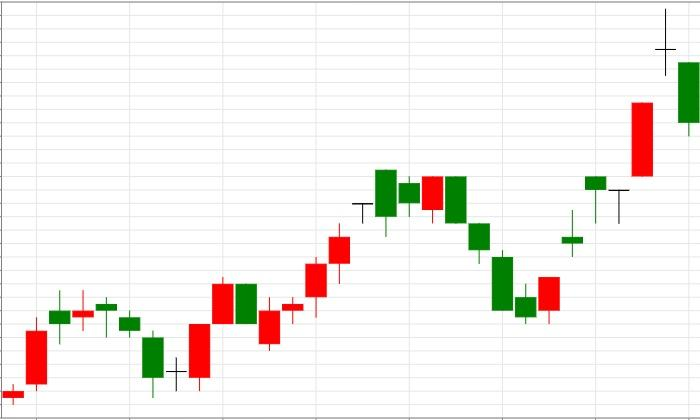evening_star_fall: (538, 8, 700, 324)
